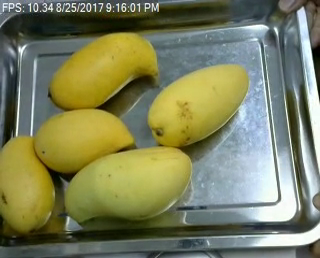Mango: (60, 144, 197, 221), (43, 30, 158, 113), (149, 62, 250, 144), (32, 106, 130, 175), (0, 132, 55, 233)
